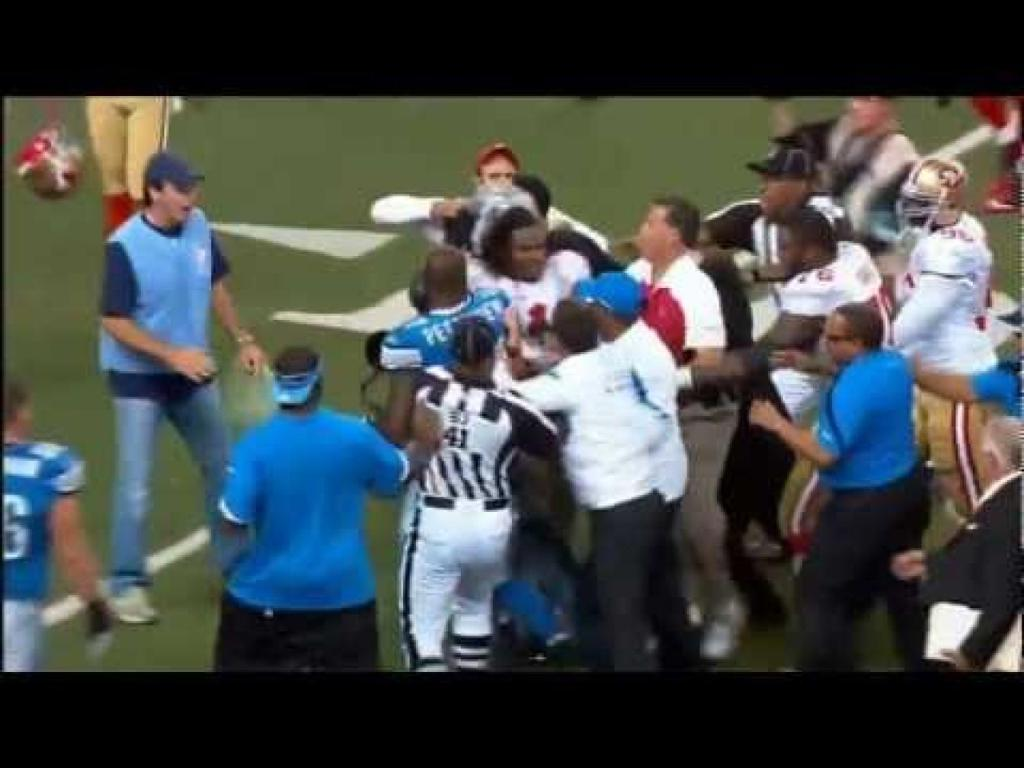face: (511, 229, 545, 278), (757, 168, 792, 213), (161, 172, 193, 220), (481, 154, 515, 198), (776, 227, 806, 273), (825, 316, 855, 361), (640, 205, 666, 256), (904, 186, 934, 229), (849, 97, 879, 128)
